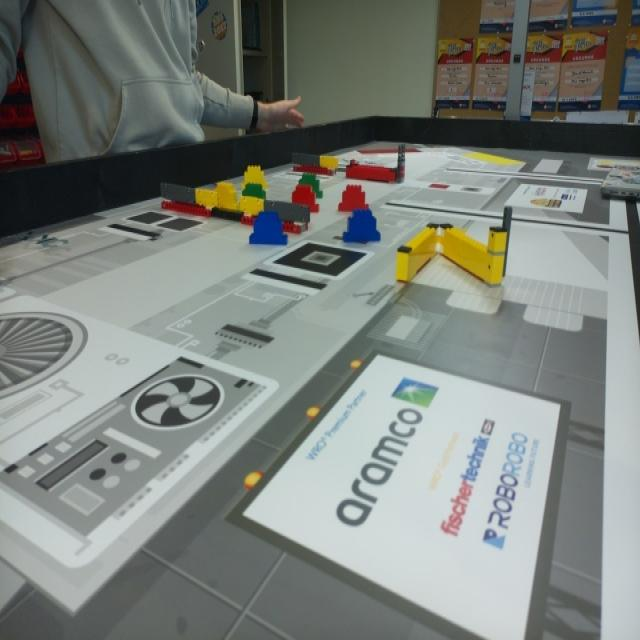blau: (248, 214, 288, 247), (343, 212, 380, 244)
gruen: (297, 173, 322, 196), (242, 183, 264, 196)
rot: (338, 185, 369, 212), (290, 187, 320, 213)
yellow: (215, 182, 236, 206), (241, 166, 265, 187)
